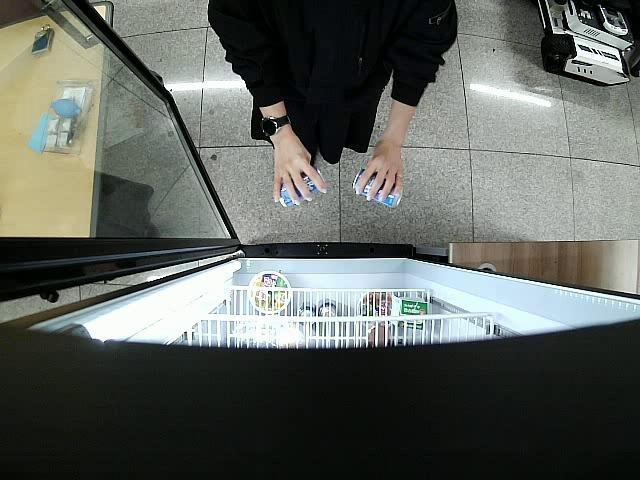15_letsbe: (352, 167, 404, 209), (279, 168, 327, 208)
